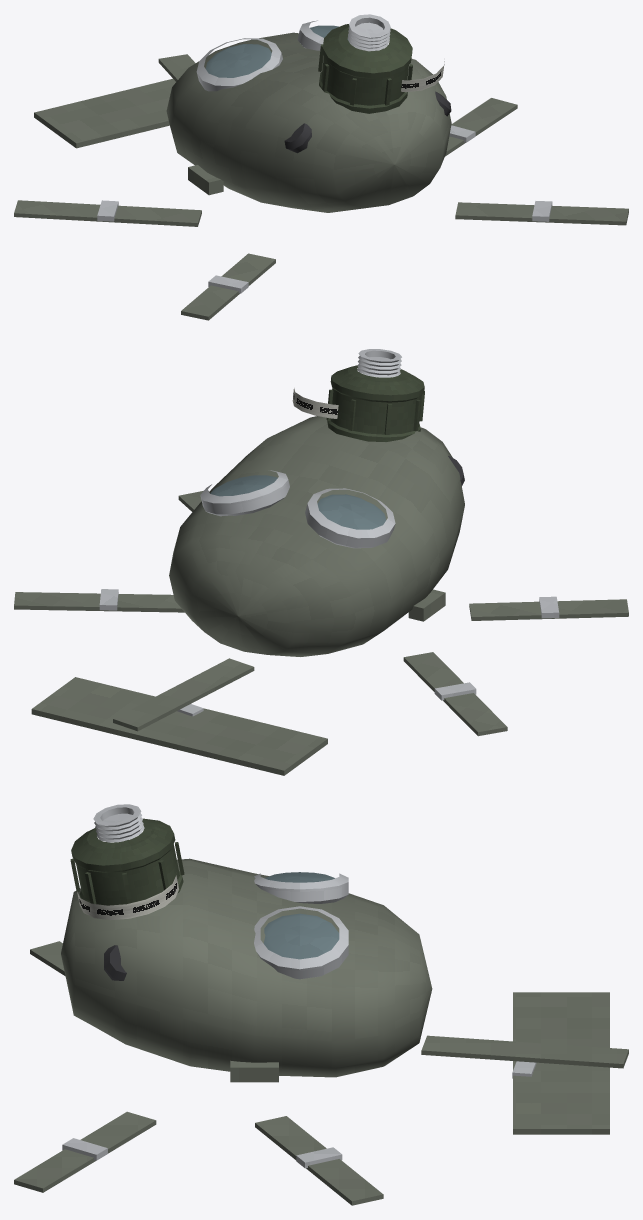
File: item_gas_mask.glb
The picture shows the model from 3 angles, top to bottom: view 1: azimuth 30°, elevation 25°; view 2: azimuth 150°, elevation 25°; view 3: azimuth 270°, elevation 25°; orthographic projection. The views are drawn at different scales.
Parts seen in each view (by area): view 1: mask; view 2: mask; view 3: mask.
Boxes of the visible parts, left/top/right/bottom form: mask: left=14, top=14, right=628, bottom=320; mask: left=14, top=349, right=628, bottom=775; mask: left=14, top=804, right=628, bottom=1205.
Size of the model in its own units: 0.4018 by 0.1744 by 0.3807.
6 materials, 6 textured.
